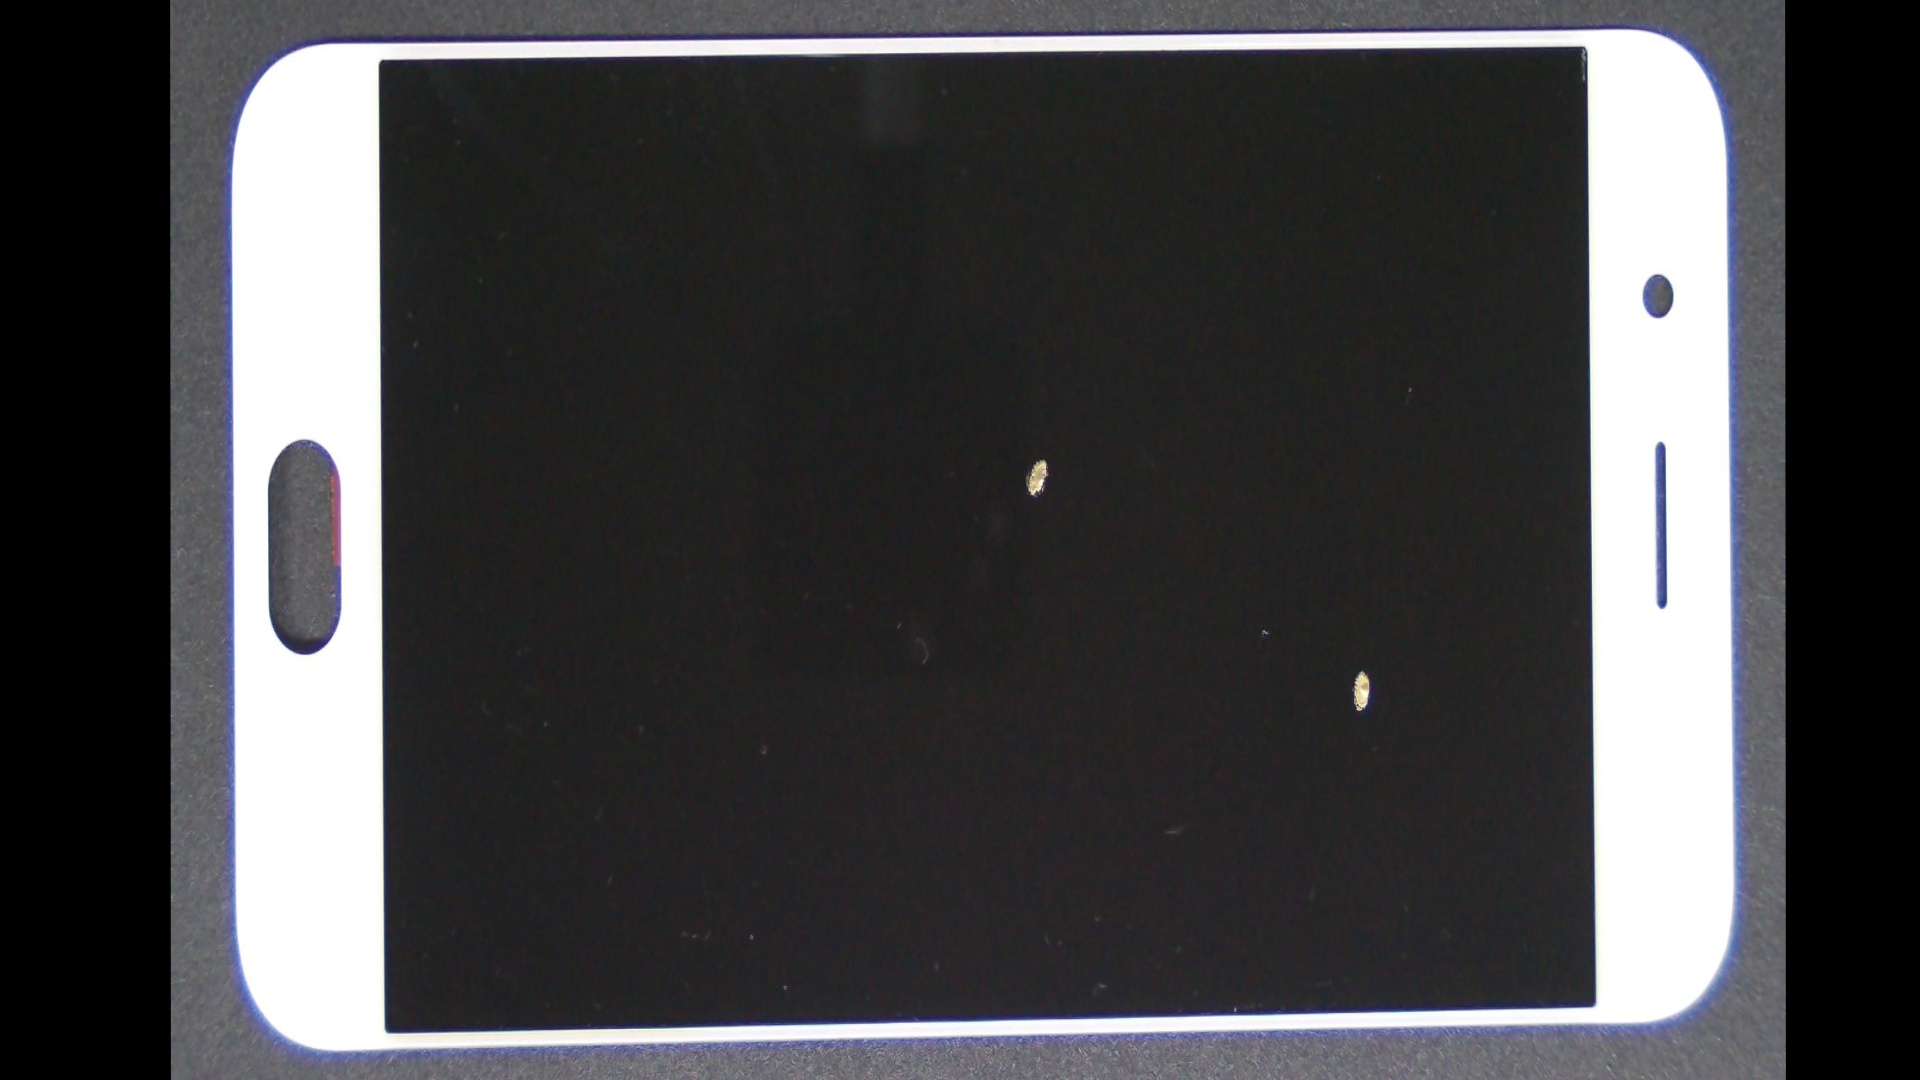oil: (766, 268, 1785, 1069), (607, 164, 1476, 750)
